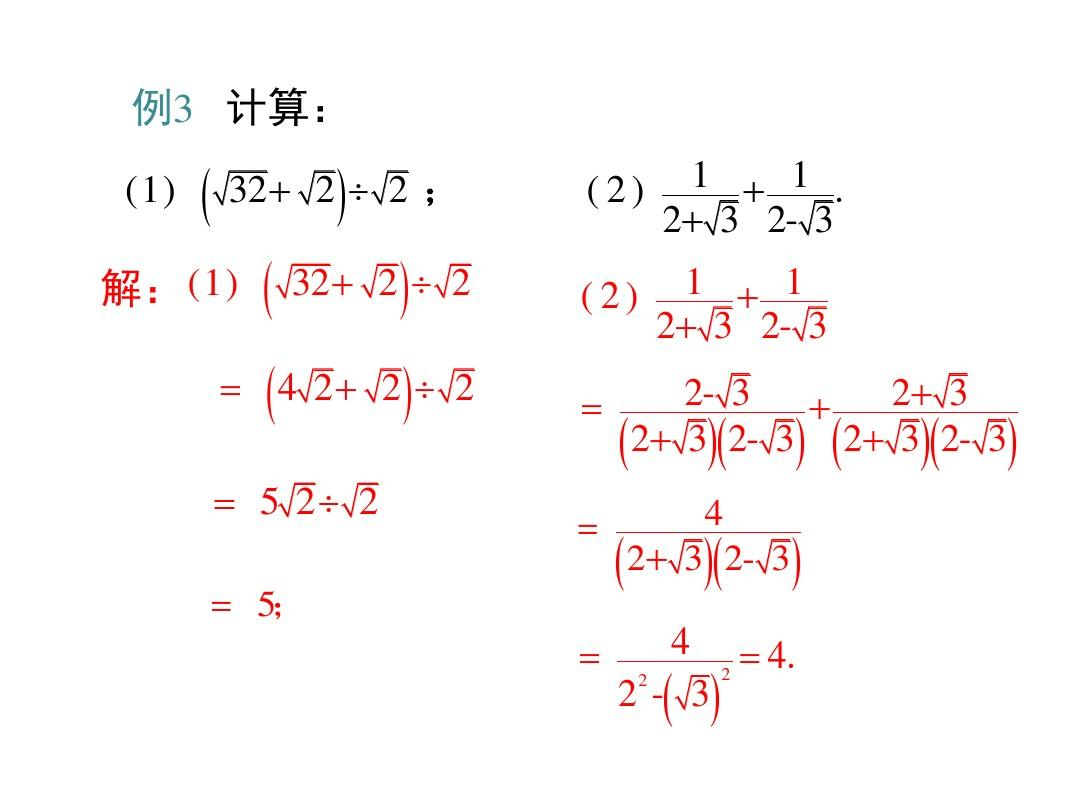division: (828, 405, 1020, 426), (620, 405, 807, 426), (614, 526, 799, 541), (616, 654, 726, 673), (652, 293, 734, 311), (660, 190, 740, 203), (767, 189, 836, 204), (760, 298, 835, 310)
sqrt: (213, 162, 272, 208), (360, 361, 408, 413), (749, 534, 800, 582), (664, 531, 710, 582), (273, 261, 331, 300), (700, 194, 746, 242), (669, 669, 715, 715), (431, 365, 478, 410), (358, 258, 403, 303), (293, 363, 336, 409), (274, 480, 321, 522), (760, 414, 800, 463), (699, 303, 739, 351), (437, 254, 478, 300), (370, 167, 416, 207), (885, 415, 925, 460), (298, 167, 340, 209), (341, 479, 382, 522), (791, 302, 831, 345), (718, 370, 762, 409), (797, 194, 832, 242), (678, 411, 712, 460), (975, 416, 1010, 463), (936, 369, 976, 410)
square: (718, 666, 733, 684), (638, 674, 650, 688)
